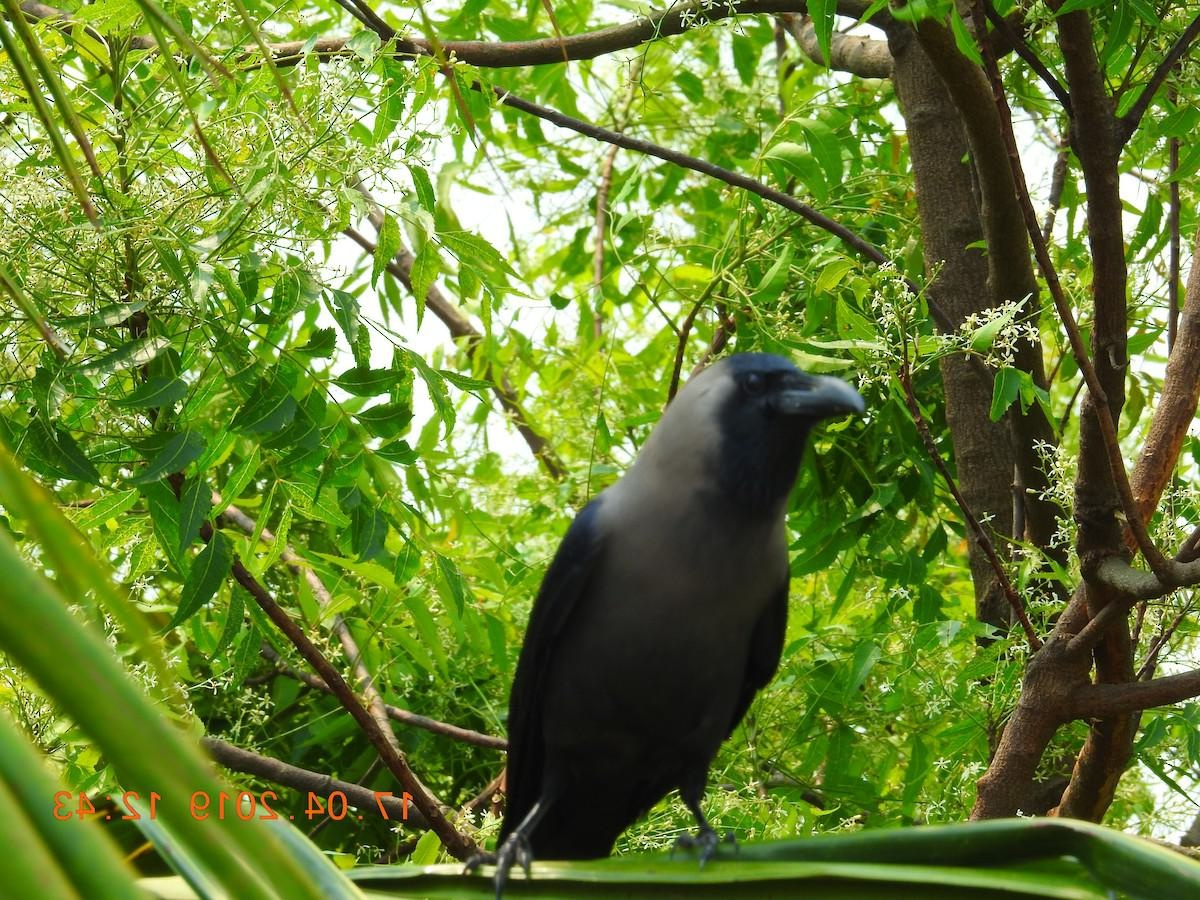crow: (447, 348, 878, 900)
